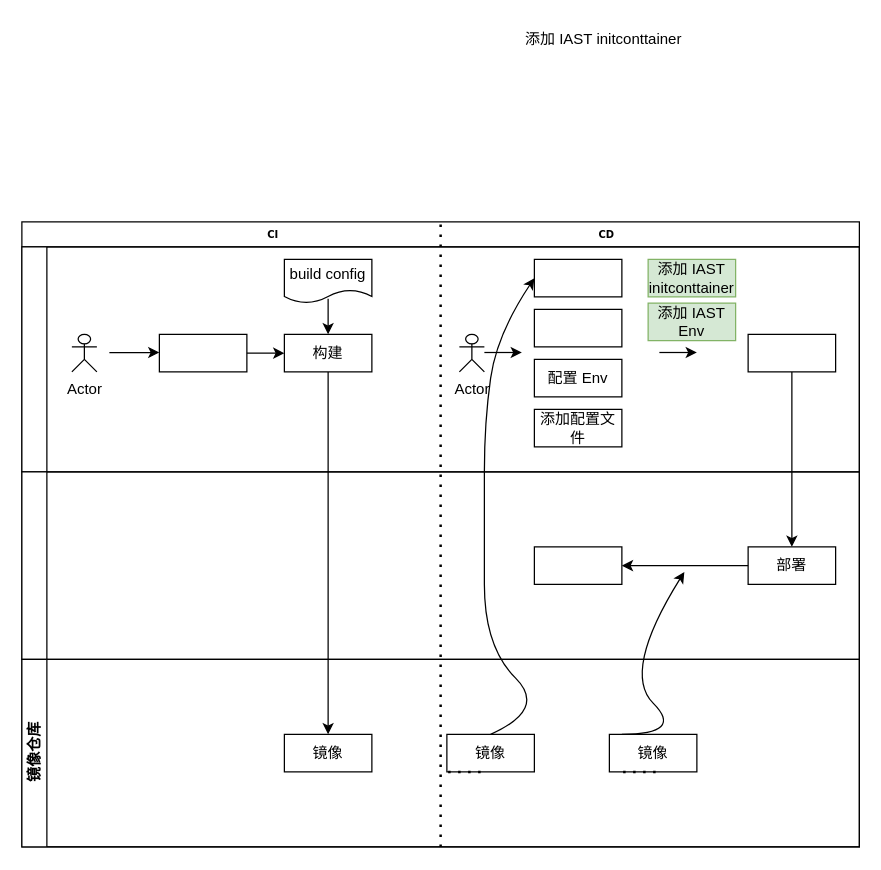
Some shapes in this 881 by 870 pixel diagram are drawn without their labels. Each missing label, with the box of its shape:
CICD 平台: (21, 246, 859, 472)
K8S 集群: (21, 471, 859, 659)
running app: (533, 546, 622, 584)
构建镜像: (158, 333, 247, 372)
生成 chart 文件: (747, 333, 836, 372)
选择镜像: (533, 258, 622, 297)
配置initcontainer: (533, 308, 622, 347)
